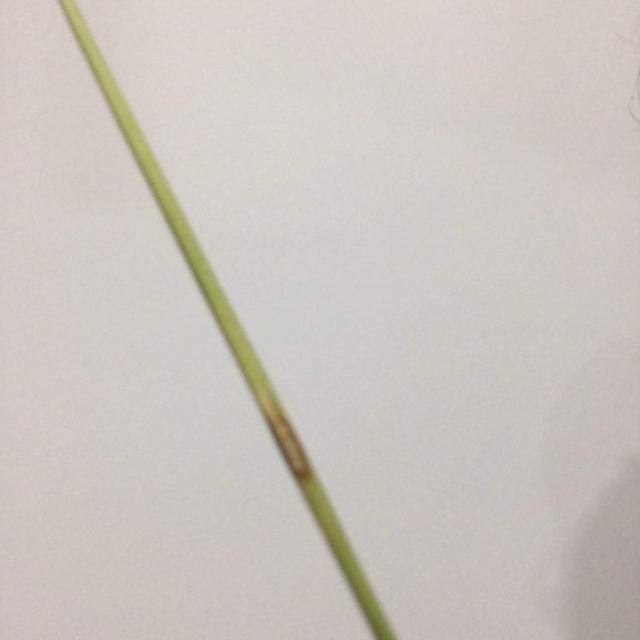Blast: (275, 423, 314, 475)
